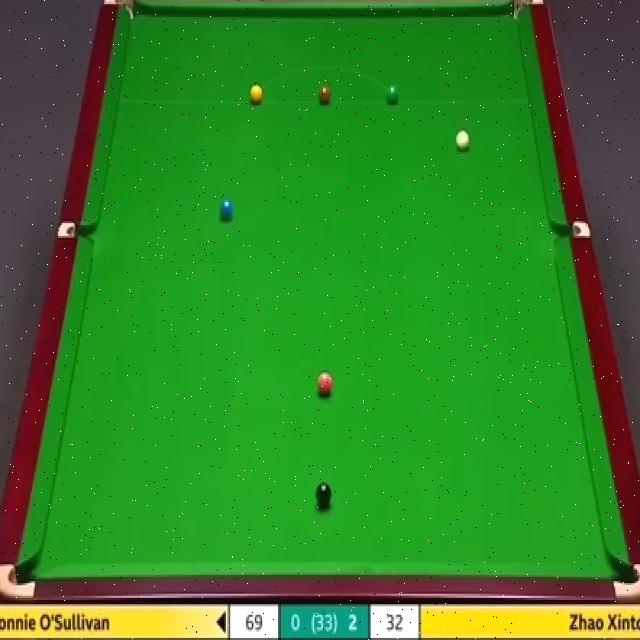black-ball: (316, 482, 332, 508)
blue-ball: (218, 199, 235, 222)
brown-ball: (318, 86, 332, 104)
green-ball: (386, 82, 400, 107)
pink-ball: (316, 370, 334, 399)
white-ball: (456, 130, 469, 154)
yellow-ball: (248, 83, 264, 105)
